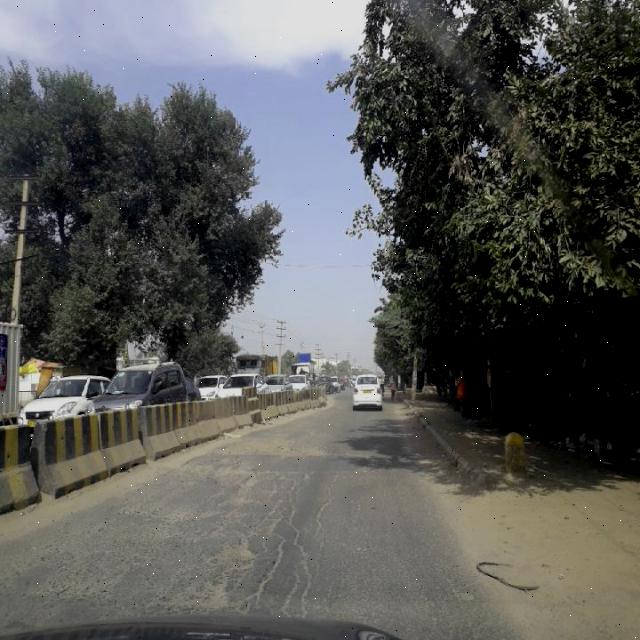D00: (246, 474, 340, 620)
D40: (170, 533, 266, 619), (26, 544, 130, 604), (188, 458, 270, 514)
